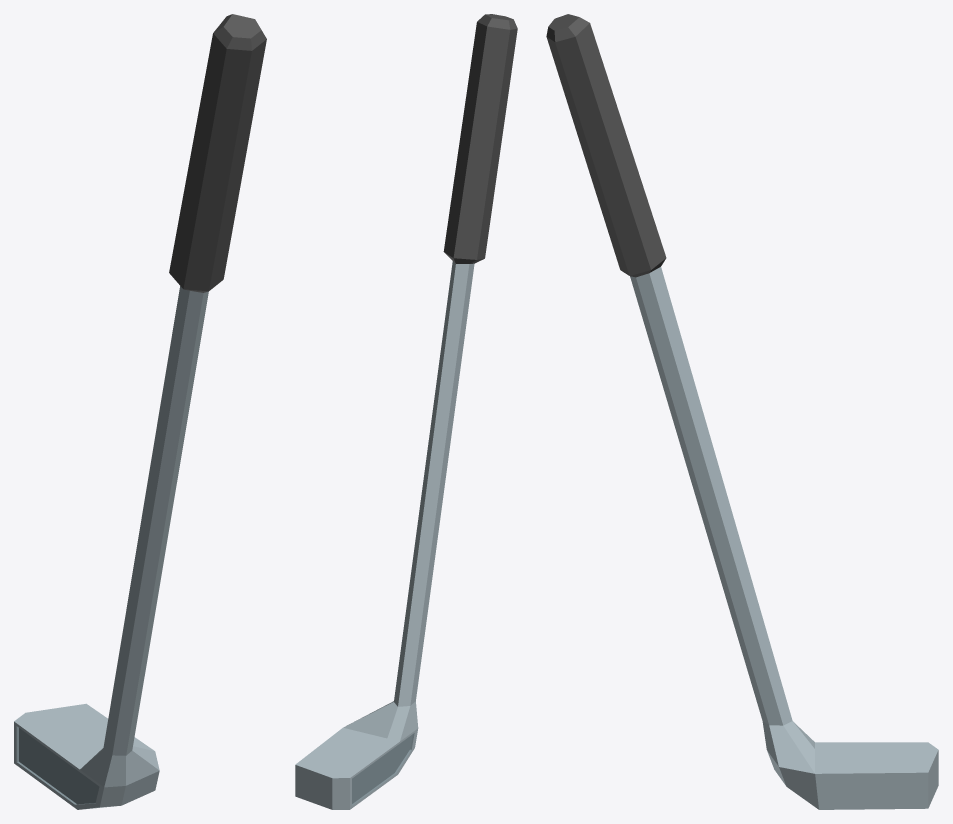
The model's file is golf putter.glb.
The picture shows the model from 3 angles, left to right: view 1: azimuth 30°, elevation 25°; view 2: azimuth 150°, elevation 25°; view 3: azimuth 270°, elevation 25°; orthographic projection. The views are drawn at different scales.
Visible parts, largest first — view 1: Gulfclub_Cube.036; view 2: Gulfclub_Cube.036; view 3: Gulfclub_Cube.036.
Boxes of the visible parts, x1,y1,x2,y2 form: Gulfclub_Cube.036: [14, 14, 266, 809]; Gulfclub_Cube.036: [295, 14, 517, 809]; Gulfclub_Cube.036: [546, 14, 938, 809].
Size of the model in its own units: 1.43 by 14.98 by 6.93.
